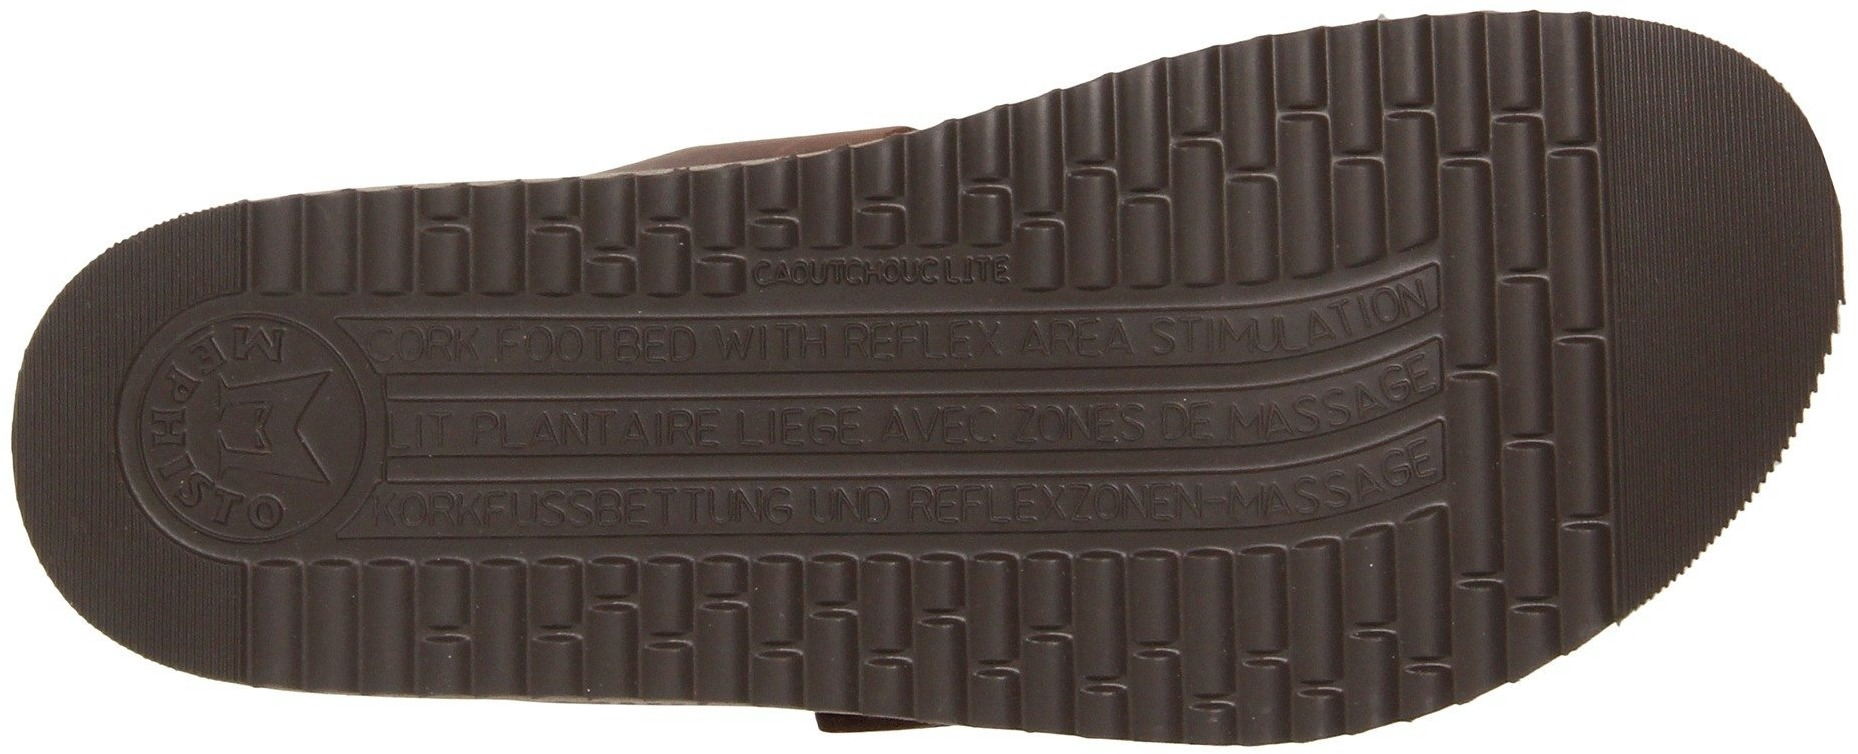other: (1610, 119, 1832, 369), (1607, 390, 1753, 511)
quad: (1166, 57, 1386, 274), (1389, 38, 1577, 253), (984, 547, 1168, 745), (1193, 539, 1376, 739), (1425, 497, 1584, 651), (597, 539, 756, 692), (421, 543, 578, 695), (1002, 114, 1162, 263), (805, 552, 960, 703), (262, 556, 405, 685), (608, 178, 728, 296)
text: (863, 309, 1101, 528), (1116, 313, 1319, 529), (463, 313, 622, 469), (626, 322, 752, 475), (1314, 295, 1439, 430), (369, 309, 450, 390), (760, 480, 848, 551), (398, 397, 462, 475), (217, 473, 288, 543), (143, 373, 220, 437), (219, 317, 287, 388), (149, 448, 213, 515)
